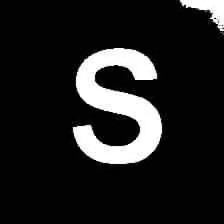LTR_S: (68, 40, 167, 170)
